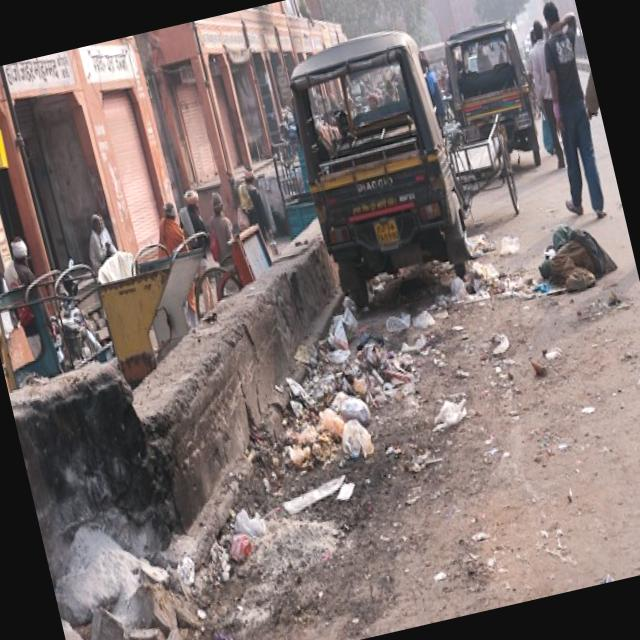garbage: (252, 305, 473, 499), (46, 483, 288, 640), (502, 200, 638, 317)
